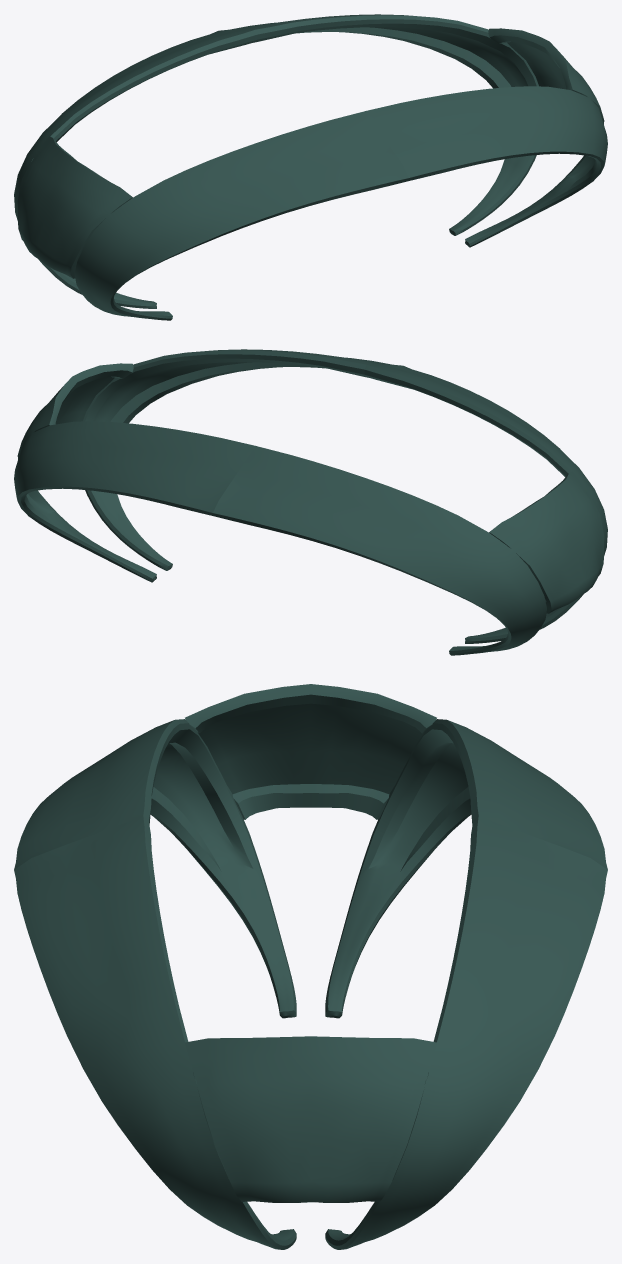
File: MDL_Lobby_Arch_01.fbx
The picture shows the model from 3 angles, top to bottom: view 1: azimuth 30°, elevation 25°; view 2: azimuth 150°, elevation 25°; view 3: azimuth 270°, elevation 25°; orthographic projection. The views are drawn at different scales.
Parts seen in each view (by area): view 1: Arch, Shield; view 2: Arch, Shield; view 3: Arch, Shield.
Boxes of the visible parts, x1,y1,x2,y2 form: Arch: [14, 14, 607, 320]; Shield: [17, 28, 604, 278]; Arch: [14, 349, 607, 655]; Shield: [17, 363, 604, 613]; Arch: [14, 719, 607, 1249]; Shield: [185, 684, 436, 1202].
Bounding box in the file's own units: 2101 × 758 × 1303.
